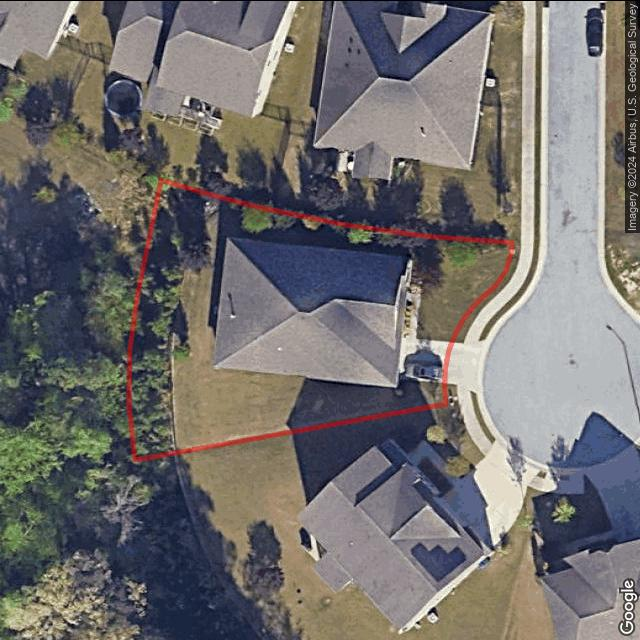Driveway: (398, 337, 453, 381)
Extra-Driveway: (445, 340, 485, 392)
Extra-Lawn: (451, 240, 521, 342), (477, 238, 540, 343), (444, 383, 458, 405), (472, 390, 476, 396)
Extra-Sidewalk: (464, 238, 535, 343), (458, 384, 471, 401)
House: (215, 237, 414, 389)
Lawn: (128, 180, 513, 459)
Other: (128, 179, 223, 459)
Sidewalk: (403, 285, 421, 338)
